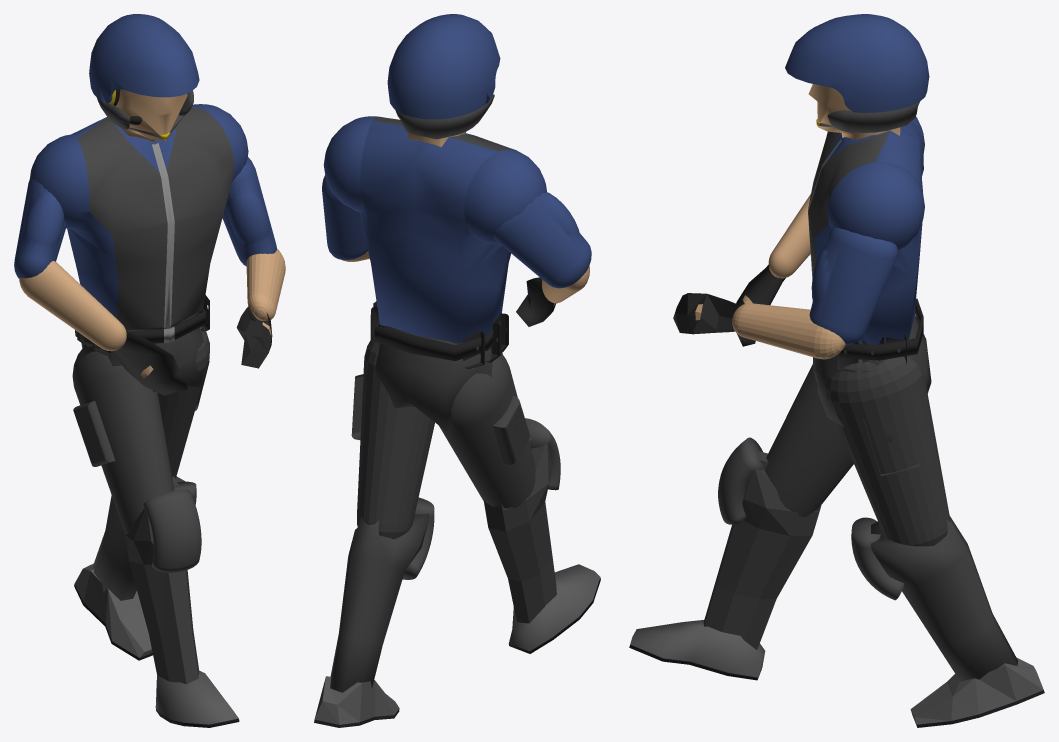
File: Landing_Force_soldier_base.obj
3 views of the same model, side by side, from view 1: azimuth 30°, elevation 25°; view 2: azimuth 150°, elevation 25°; view 3: azimuth 270°, elevation 25° (orthographic). The views are drawn at different scales.
Parts seen in each view (by area): view 1: Landing_Force_soldier_base-COM-Component_126-34974-Gray81, Landing_Force_soldier_base-COM-Component_124-30219-Color_1, Landing_Force_soldier_base-COM-Component_126-34974-Prussian_Blue, Landing_Force_soldier_base-COM-Component_119-10994-Prussian_Blue, Landing_Force_soldier_base-COM-Component_120-33781-Material8, Landing_Force_soldier_base-COM-Component_72-34234-Color_C09, Landing_Force_soldier_base-COM-Component_15-34209-Gray82, Landing_Force_soldier_base-COM-Component_125-34222-Prussian_Blue, Landing_Force_soldier_base-COM-Component_123-34248-Prussian_Blue, Landing_Force_soldier_base-COM-Component_3-23482-Color_006, Landing_Force_soldier_base-COM-Component_16-33780-Color_006, Landing_Force_soldier_base-COM-Component_13-34235-Charcoal (+10 smaller); view 2: Landing_Force_soldier_base-COM-Component_126-34974-Prussian_Blue, Landing_Force_soldier_base-COM-Component_119-10994-Prussian_Blue, Landing_Force_soldier_base-COM-Component_2-34261-Color_1, Landing_Force_soldier_base-COM-Component_90-23850-Material8, Landing_Force_soldier_base-COM-Component_124-30219-Color_1, Landing_Force_soldier_base-COM-Component_120-33781-Material8, Landing_Force_soldier_base-COM-Component_125-34222-Prussian_Blue, Landing_Force_soldier_base-COM-Component_75-34977-Material8, Landing_Force_soldier_base-COM-Component_16-33780-Color_006, Landing_Force_soldier_base-COM-Component_3-23482-Color_006, Landing_Force_soldier_base-COM-Component_123-34248-Prussian_Blue, Landing_Force_soldier_base-COM-Component_37-34978-Color_008 (+8 smaller); view 3: Landing_Force_soldier_base-COM-Component_2-34261-Color_1, Landing_Force_soldier_base-COM-Component_126-34974-Prussian_Blue, Landing_Force_soldier_base-COM-Component_90-23850-Material8, Landing_Force_soldier_base-COM-Component_120-33781-Material8, Landing_Force_soldier_base-COM-Component_119-10994-Prussian_Blue, Landing_Force_soldier_base-COM-Component_124-30219-Color_1, Landing_Force_soldier_base-COM-Component_123-34248-Prussian_Blue, Landing_Force_soldier_base-COM-Component_16-33780-Color_006, Landing_Force_soldier_base-COM-Component_3-23482-Color_006, Landing_Force_soldier_base-COM-Component_5-27482-Color_C09, Landing_Force_soldier_base-COM-Component_126-34974-Gray81, Landing_Force_soldier_base-COM-Component_15-34209-Gray82 (+8 smaller).
Boxes of the visible parts, bbox=[...] form: Landing_Force_soldier_base-COM-Component_126-34974-Gray81: bbox=[77, 107, 234, 330]; Landing_Force_soldier_base-COM-Component_124-30219-Color_1: bbox=[72, 348, 174, 534]; Landing_Force_soldier_base-COM-Component_126-34974-Prussian_Blue: bbox=[29, 104, 248, 318]; Landing_Force_soldier_base-COM-Component_119-10994-Prussian_Blue: bbox=[89, 14, 199, 103]; Landing_Force_soldier_base-COM-Component_120-33781-Material8: bbox=[125, 508, 199, 684]; Landing_Force_soldier_base-COM-Component_72-34234-Color_C09: bbox=[19, 261, 126, 351]; Landing_Force_soldier_base-COM-Component_15-34209-Gray82: bbox=[143, 489, 201, 572]; Landing_Force_soldier_base-COM-Component_125-34222-Prussian_Blue: bbox=[14, 178, 66, 278]; Landing_Force_soldier_base-COM-Component_123-34248-Prussian_Blue: bbox=[222, 157, 276, 266]; Landing_Force_soldier_base-COM-Component_3-23482-Color_006: bbox=[74, 563, 152, 657]; Landing_Force_soldier_base-COM-Component_16-33780-Color_006: bbox=[155, 671, 238, 724]; Landing_Force_soldier_base-COM-Component_13-34235-Charcoal: bbox=[112, 331, 187, 395]; Landing_Force_soldier_base-COM-Component_126-34974-Prussian_Blue: bbox=[323, 116, 546, 343]; Landing_Force_soldier_base-COM-Component_119-10994-Prussian_Blue: bbox=[387, 14, 500, 119]; Landing_Force_soldier_base-COM-Component_2-34261-Color_1: bbox=[357, 335, 434, 539]; Landing_Force_soldier_base-COM-Component_90-23850-Material8: bbox=[330, 513, 429, 692]; Landing_Force_soldier_base-COM-Component_124-30219-Color_1: bbox=[439, 353, 535, 508]; Landing_Force_soldier_base-COM-Component_120-33781-Material8: bbox=[483, 437, 556, 623]; Landing_Force_soldier_base-COM-Component_125-34222-Prussian_Blue: bbox=[493, 192, 591, 288]; Landing_Force_soldier_base-COM-Component_75-34977-Material8: bbox=[375, 325, 502, 431]; Landing_Force_soldier_base-COM-Component_16-33780-Color_006: bbox=[509, 564, 600, 651]; Landing_Force_soldier_base-COM-Component_3-23482-Color_006: bbox=[314, 676, 399, 724]; Landing_Force_soldier_base-COM-Component_123-34248-Prussian_Blue: bbox=[322, 175, 367, 260]; Landing_Force_soldier_base-COM-Component_37-34978-Color_008: bbox=[374, 315, 501, 361]; Landing_Force_soldier_base-COM-Component_2-34261-Color_1: bbox=[824, 356, 950, 546]; Landing_Force_soldier_base-COM-Component_126-34974-Prussian_Blue: bbox=[813, 117, 924, 344]; Landing_Force_soldier_base-COM-Component_90-23850-Material8: bbox=[870, 516, 1017, 681]; Landing_Force_soldier_base-COM-Component_120-33781-Material8: bbox=[703, 451, 821, 649]; Landing_Force_soldier_base-COM-Component_119-10994-Prussian_Blue: bbox=[785, 14, 929, 112]; Landing_Force_soldier_base-COM-Component_124-30219-Color_1: bbox=[765, 364, 853, 517]; Landing_Force_soldier_base-COM-Component_123-34248-Prussian_Blue: bbox=[809, 227, 897, 345]; Landing_Force_soldier_base-COM-Component_16-33780-Color_006: bbox=[630, 620, 765, 677]; Landing_Force_soldier_base-COM-Component_3-23482-Color_006: bbox=[910, 657, 1043, 724]; Landing_Force_soldier_base-COM-Component_5-27482-Color_C09: bbox=[732, 303, 845, 359]; Landing_Force_soldier_base-COM-Component_126-34974-Gray81: bbox=[808, 131, 889, 275]; Landing_Force_soldier_base-COM-Component_15-34209-Gray82: bbox=[718, 437, 764, 524].
Size of the model in its own units: 0.7131 by 1.76 by 0.9659.
